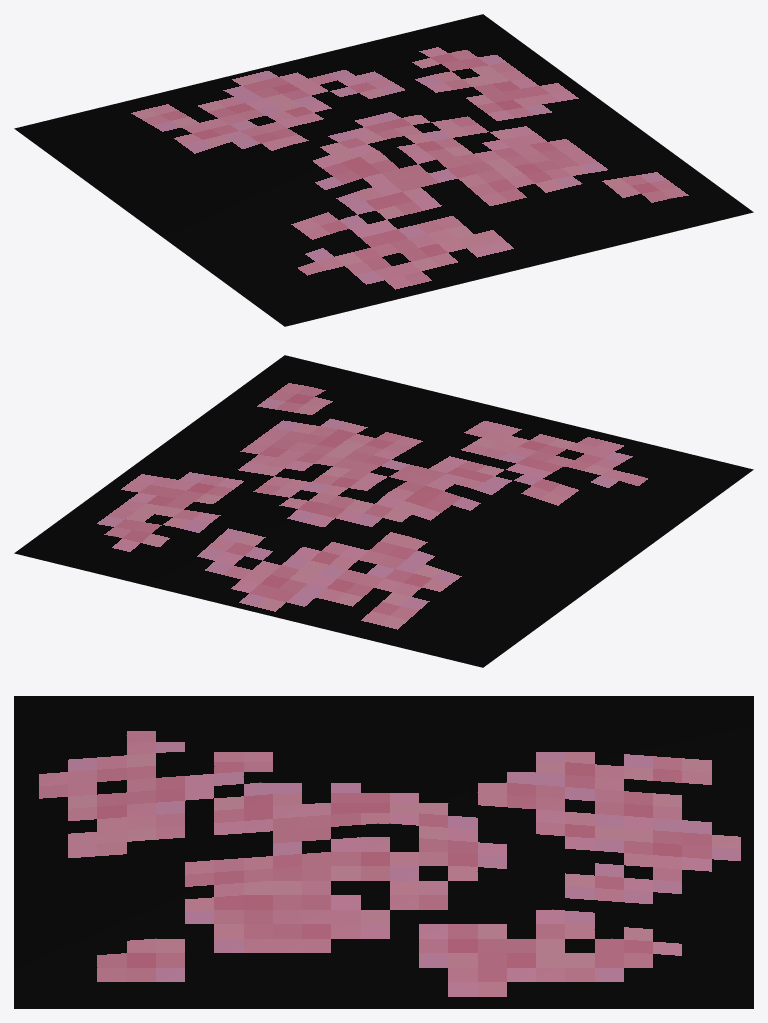
Rendered from plants_flower05_b.gltf.
3 renders of one model, top to bottom at view 1: azimuth 30°, elevation 25°; view 2: azimuth 150°, elevation 25°; view 3: azimuth 270°, elevation 25°, orthographic. The views are drawn at different scales.
Visible parts, largest first — view 1: plants_flower05_b; view 2: plants_flower05_b; view 3: plants_flower05_b.
Part boxes in pixels (left/top/right/bottom): plants_flower05_b: left=14, top=14, right=753, bottom=326; plants_flower05_b: left=14, top=355, right=753, bottom=667; plants_flower05_b: left=14, top=696, right=753, bottom=1008.
Bounding box in the file's own units: 1.25 × 0.05 × 1.25.
1 material, 1 textured.
